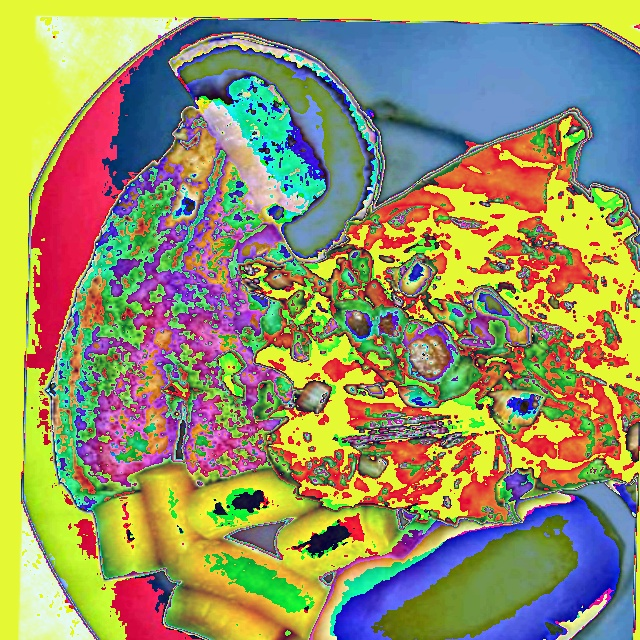background: (45, 35, 639, 639)
